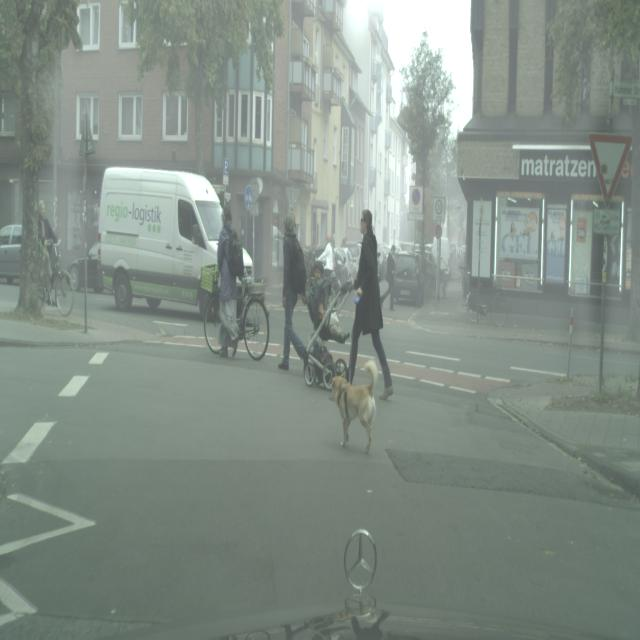bicycle: (92, 166, 237, 318)
bus: (391, 252, 425, 306), (0, 223, 22, 284)
car: (203, 271, 270, 359), (39, 198, 75, 318), (466, 278, 508, 328)
person: (348, 209, 393, 401), (278, 212, 309, 373), (217, 206, 245, 356), (386, 244, 397, 311)
